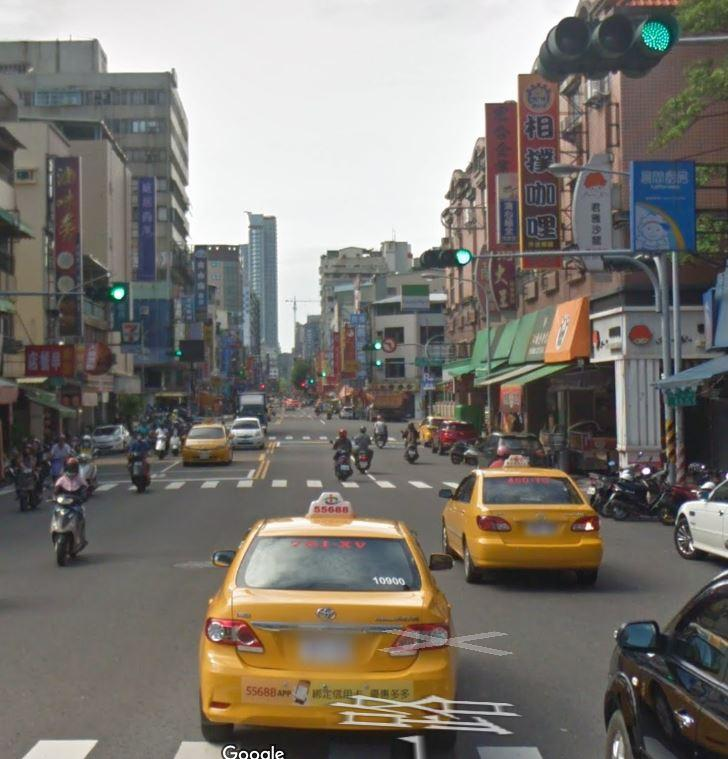car: (189, 486, 468, 744), (435, 453, 599, 586), (173, 415, 235, 468), (235, 413, 264, 452)
green_traffic_light: (535, 9, 677, 79), (414, 244, 472, 268), (84, 283, 129, 303)
motorcycle: (48, 488, 88, 567), (121, 447, 151, 491), (326, 442, 352, 480), (354, 440, 372, 471)
